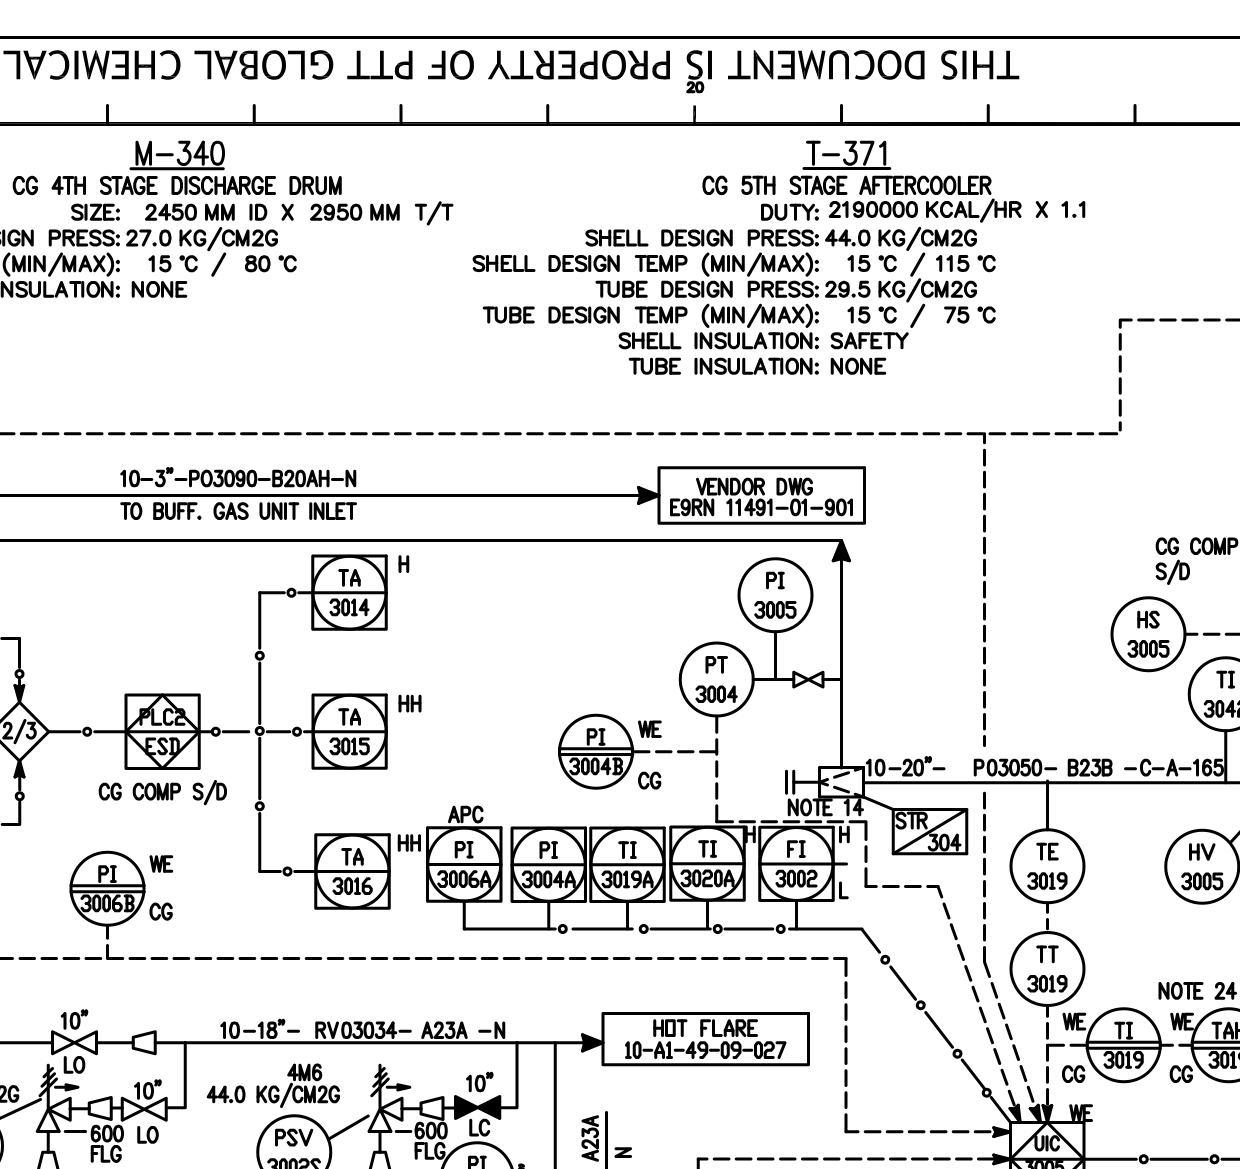Instrument Tag: (418, 821, 507, 908), (731, 554, 820, 641), (582, 821, 670, 908), (664, 821, 752, 908), (308, 549, 395, 635), (306, 688, 394, 773), (310, 828, 398, 914), (505, 822, 593, 908), (752, 824, 840, 910), (672, 638, 760, 724), (1104, 592, 1192, 678), (1003, 826, 1091, 912), (1006, 924, 1094, 1010), (1152, 823, 1240, 909), (1184, 653, 1240, 735)
Line Number: (863, 754, 1226, 778), (216, 1015, 520, 1042), (118, 464, 365, 490)
PSV: (35, 1058, 83, 1140), (368, 1058, 409, 1139)
Reducer: (81, 1090, 118, 1124), (414, 1093, 450, 1127), (129, 1025, 164, 1059)
Valve: (44, 1026, 103, 1058), (114, 1093, 174, 1125), (450, 1091, 509, 1123)
